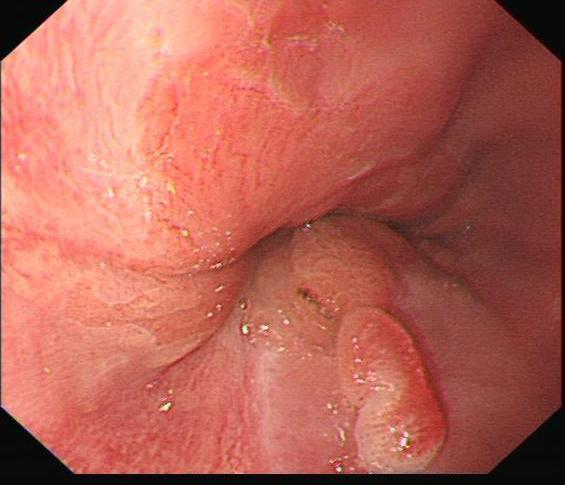Polyp: (328, 301, 446, 475)
